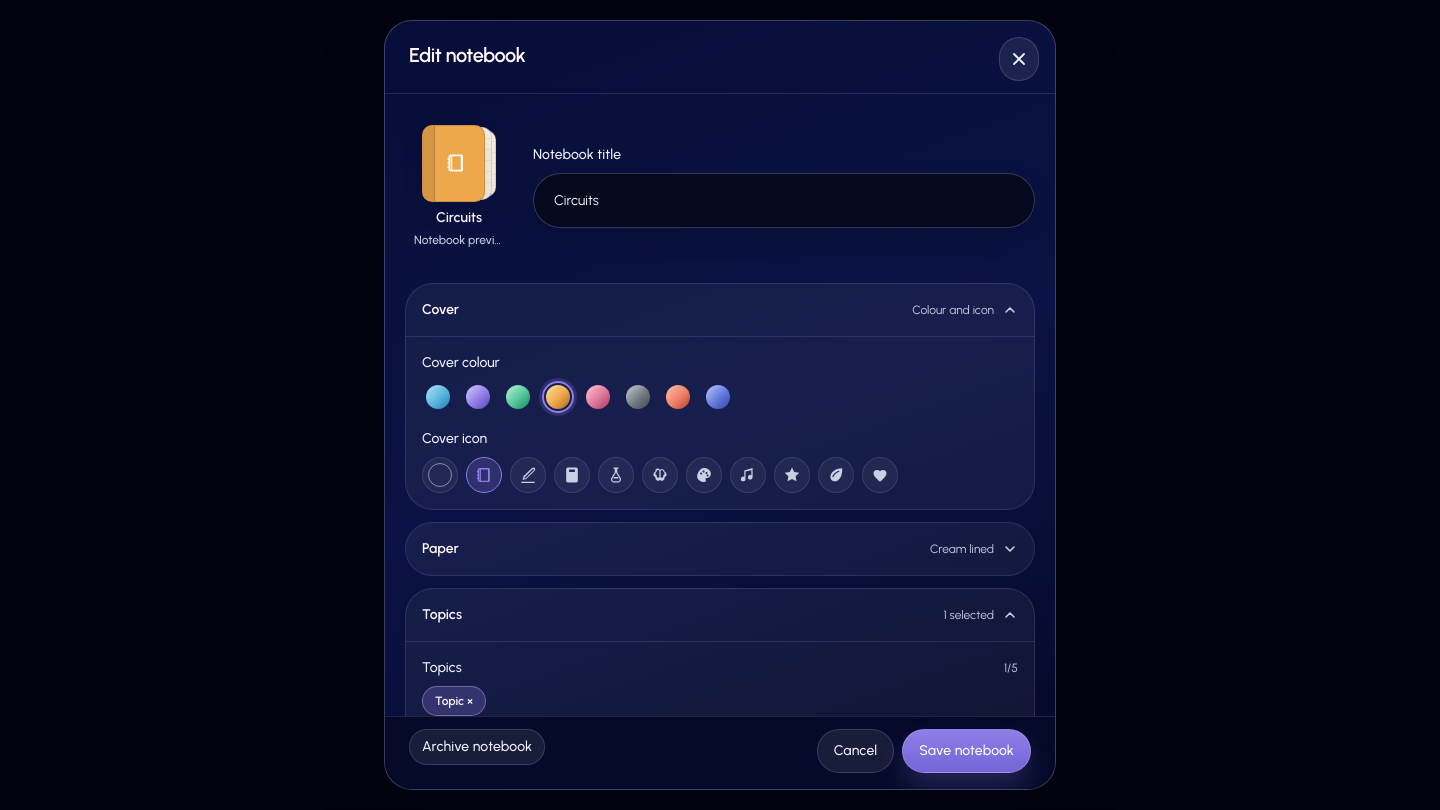
Test: NotebookEditorDialog archiving › asks before archiving
The width and height of the screenshot is (1440, 810).
Step 1. Click the button "Archive notebook" → {"x": 477, "y": 747}, box left=409, top=729, right=545, bottom=765
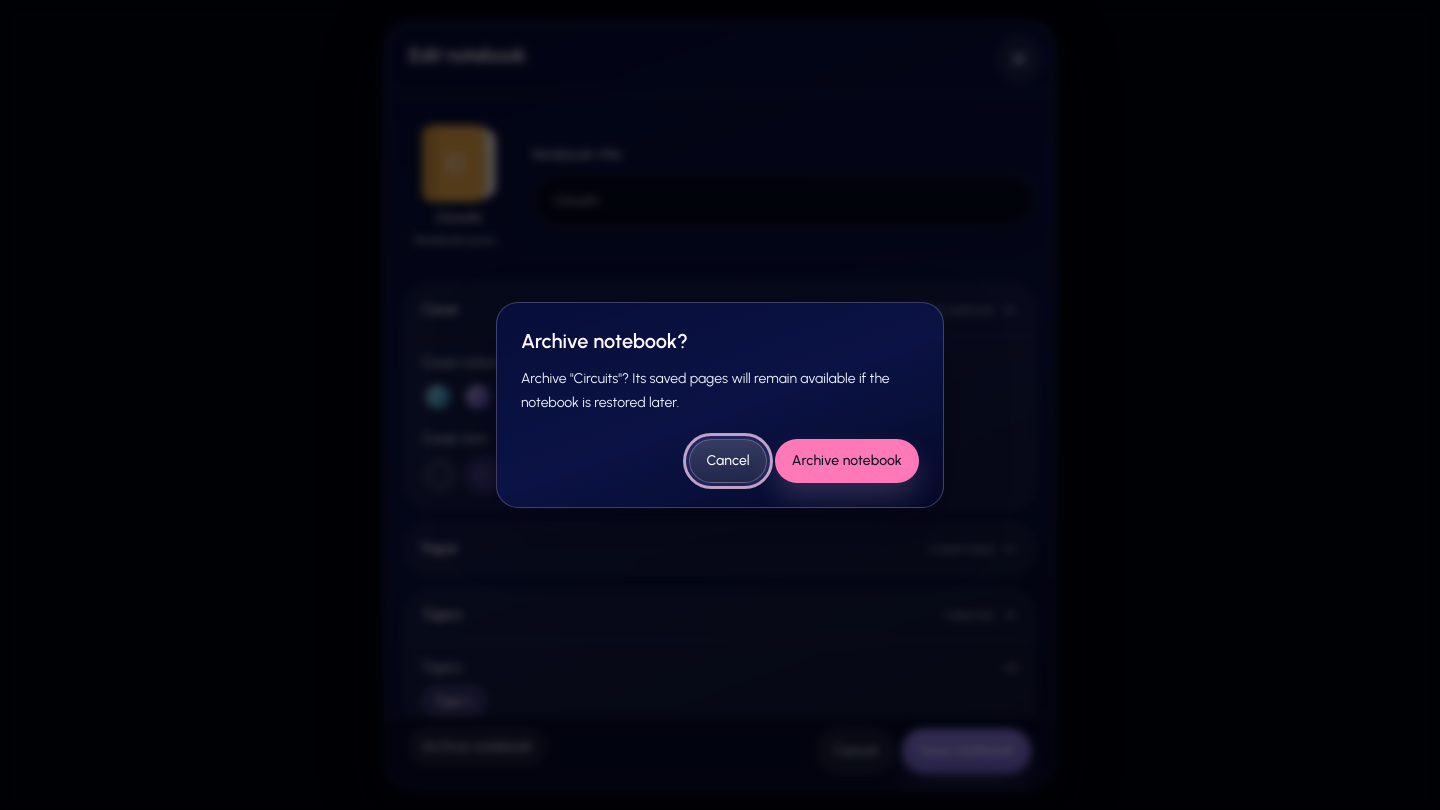
Result: the dialog is shown at left=496, top=302, right=944, bottom=508
